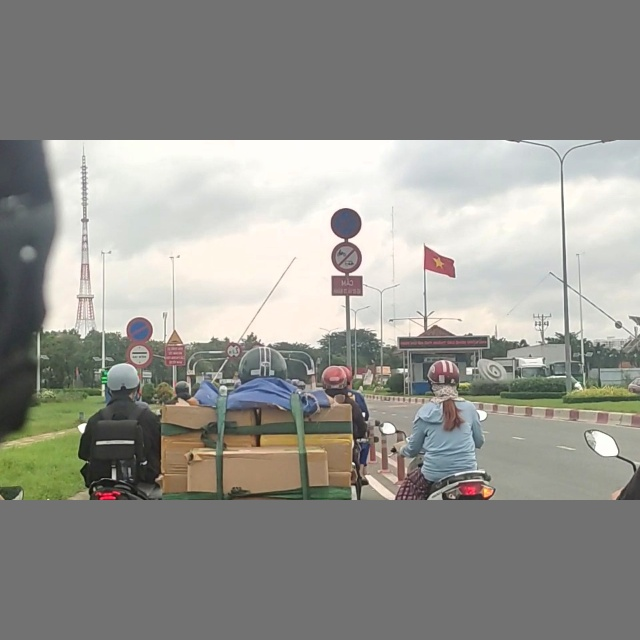P.111: (331, 241, 361, 273)
P.117*: (226, 343, 241, 359)
P.129: (127, 343, 153, 367)
P.130: (331, 208, 361, 238)
P.131a: (127, 317, 153, 342)
W.221b: (167, 329, 183, 345)
